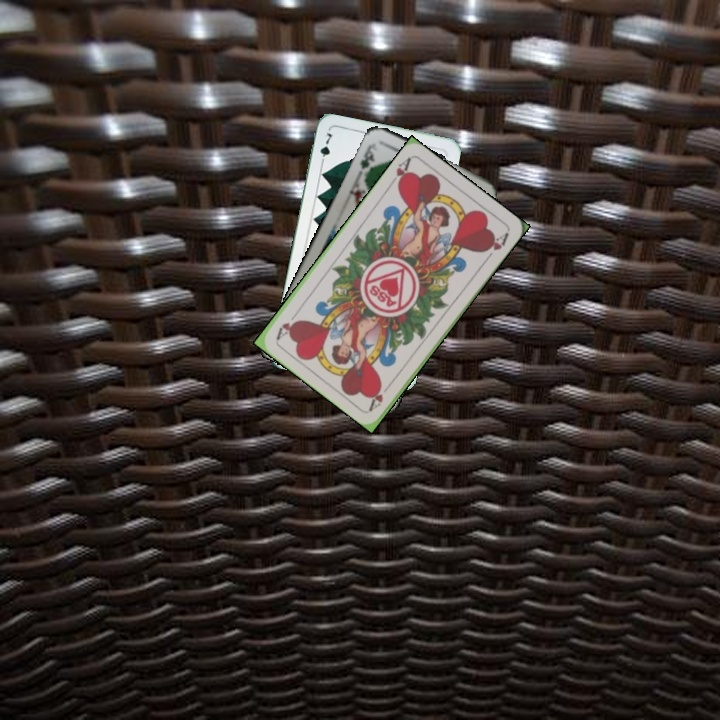G7: (316, 128, 336, 168)
GK: (356, 139, 381, 178)
HA: (385, 153, 414, 190), (365, 377, 395, 412)
